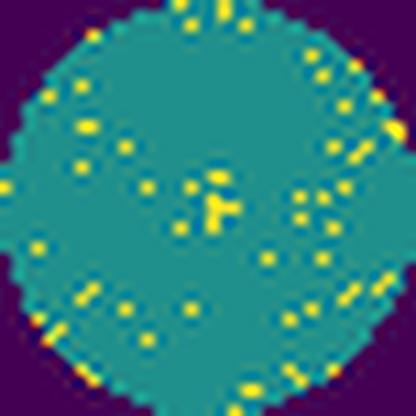Center: (200, 185, 249, 240)
